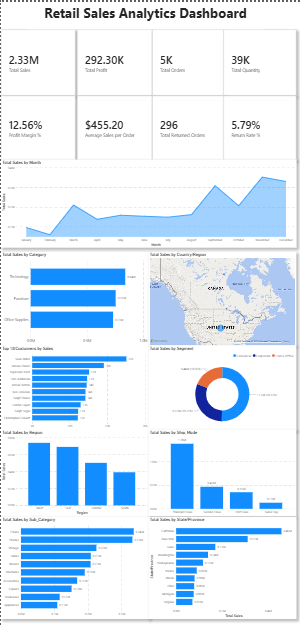

The dashboard page shown, as its layout file describes it:
{"tool":"powerbi","page":{"name":"Executive Dashboard","canvas":[1205,2500],"ordinal":0},"visuals":[{"type":"cardVisual","fields":{"Data":["KPI.Total Sales"]},"box":[0,108.8,297.5,265],"z":0},{"type":"cardVisual","fields":{"Data":["KPI.Total Profit"]},"box":[302.5,108.8,300,265],"z":1000},{"type":"cardVisual","fields":{"Data":["KPI.Total Orders"]},"box":[602.5,108.8,288.8,265],"z":2000},{"type":"cardVisual","fields":{"Data":["KPI.Total Quantity"]},"box":[891.2,108.8,291.2,265],"z":3000},{"type":"cardVisual","fields":{"Data":["KPI.Profit Margin %"]},"box":[0,373.8,297.5,257.5],"z":4000},{"type":"cardVisual","fields":{"Data":["KPI.Average Sales per Order"]},"box":[302.5,373.8,300,257.5],"z":5000},{"type":"cardVisual","fields":{"Data":["KPI.Total Returned Orders"]},"box":[602.5,373.8,293.8,257.5],"z":6000},{"type":"cardVisual","fields":{"Data":["KPI.Return Rate %"]},"box":[891.2,373.8,291.2,257.5],"z":7000},{"type":"lineChart","fields":{"Category":["Date.Month"],"Y":["KPI.Total Sales"]},"box":[0,631.2,1182.5,352.5],"z":8000},{"type":"clusteredBarChart","fields":{"Category":["Sales.Category"],"Y":["KPI.Total Sales"]},"box":[0,997.5,591.2,375],"z":9000},{"type":"map","fields":{"Category":["Sales.Country/Region"],"Size":["KPI.Total Sales"]},"box":[591.2,997.5,591.2,375],"z":10000},{"type":"clusteredBarChart","title":"Top 10 Customers by Sales","fields":{"Category":["Sales.Customer_Name"],"Y":["KPI.Total Sales"]},"box":[0,1372.5,591.2,338.8],"z":11000},{"type":"donutChart","fields":{"Category":["Sales.Segment"],"Y":["KPI.Total Sales"]},"box":[591.2,1372.5,591.2,338.8],"z":12000},{"type":"clusteredColumnChart","fields":{"Category":["Sales.Region"],"Y":["KPI.Total Sales"]},"box":[0,1711.2,591.2,347.5],"z":13000},{"type":"clusteredColumnChart","fields":{"Category":["Sales.Ship_Mode"],"Y":["KPI.Total Sales"]},"box":[591.2,1711.2,591.2,347.5],"z":14000},{"type":"clusteredBarChart","fields":{"Category":["Sales.Sub_Category"],"Y":["KPI.Total Sales"]},"box":[0,2059,591,408],"z":15000},{"type":"clusteredBarChart","fields":{"Category":["Sales.State/Province"],"Y":["KPI.Total Sales"]},"box":[591,2059,592,408],"z":16000},{"type":"textbox","box":[106.2,0,947.5,108.8],"z":17000}]}

Visuals, with their boxes in screenshot pixels (x1, y1, x2, y2), scaled from the page's 1205x2500 canvas onto the 300x626 screenshot:
cardVisual - KPI.Total Sales: detection(0, 27, 74, 94)
cardVisual - KPI.Total Profit: detection(75, 27, 150, 94)
cardVisual - KPI.Total Orders: detection(150, 27, 222, 94)
cardVisual - KPI.Total Quantity: detection(222, 27, 294, 94)
cardVisual - KPI.Profit Margin %: detection(0, 94, 74, 158)
cardVisual - KPI.Average Sales per Order: detection(75, 94, 150, 158)
cardVisual - KPI.Total Returned Orders: detection(150, 94, 223, 158)
cardVisual - KPI.Return Rate %: detection(222, 94, 294, 158)
lineChart - Date.Month x KPI.Total Sales: detection(0, 158, 294, 246)
clusteredBarChart - Sales.Category x KPI.Total Sales: detection(0, 250, 147, 344)
map - Sales.Country/Region x KPI.Total Sales: detection(147, 250, 294, 344)
"Top 10 Customers by Sales" clusteredBarChart: detection(0, 344, 147, 429)
donutChart - Sales.Segment x KPI.Total Sales: detection(147, 344, 294, 429)
clusteredColumnChart - Sales.Region x KPI.Total Sales: detection(0, 428, 147, 515)
clusteredColumnChart - Sales.Ship_Mode x KPI.Total Sales: detection(147, 428, 294, 515)
clusteredBarChart - Sales.Sub_Category x KPI.Total Sales: detection(0, 516, 147, 618)
clusteredBarChart - Sales.State/Province x KPI.Total Sales: detection(147, 516, 295, 618)
textbox: detection(26, 0, 262, 27)
